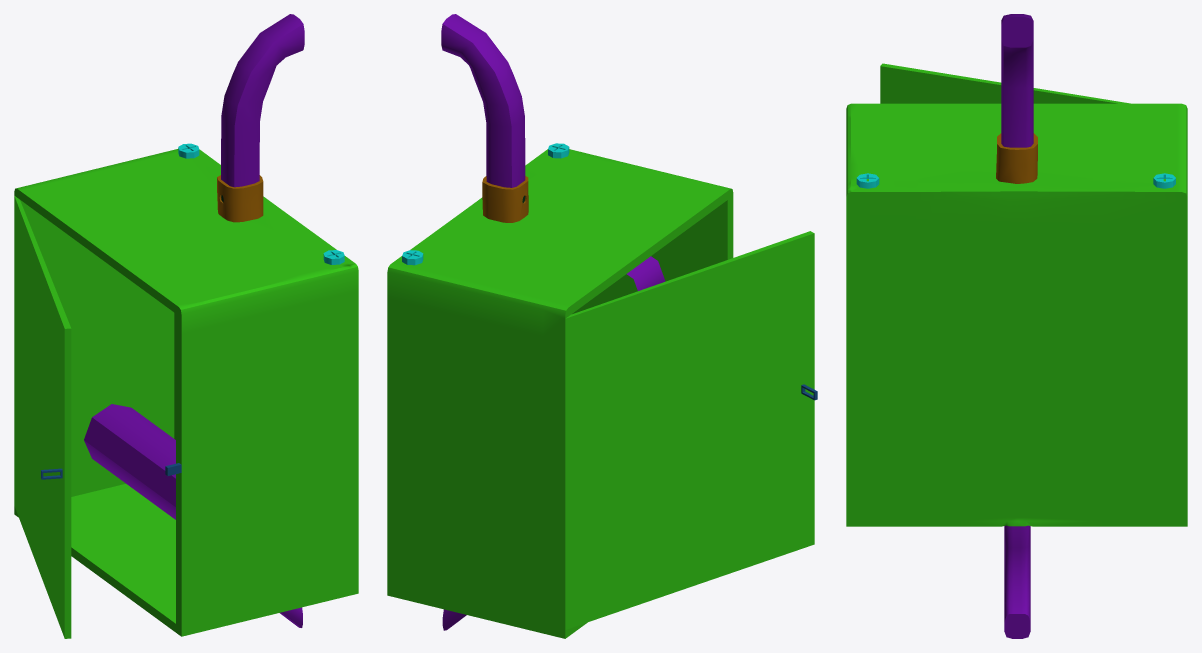
Rendered from FBX_Boitier.fbx.
The picture shows the model from 3 angles, left to right: view 1: azimuth 30°, elevation 25°; view 2: azimuth 150°, elevation 25°; view 3: azimuth 270°, elevation 25°; orthographic projection. The views are drawn at different scales.
Visible parts, largest first — view 1: Box001; view 2: Box001; view 3: Box001.
Boxes of the visible parts, x1,y1,x2,y2 form: Box001: (14, 14, 358, 638); Box001: (387, 14, 817, 638); Box001: (846, 14, 1187, 638).
Size of the model in its own units: 0.78 by 1.46 by 0.7264.
